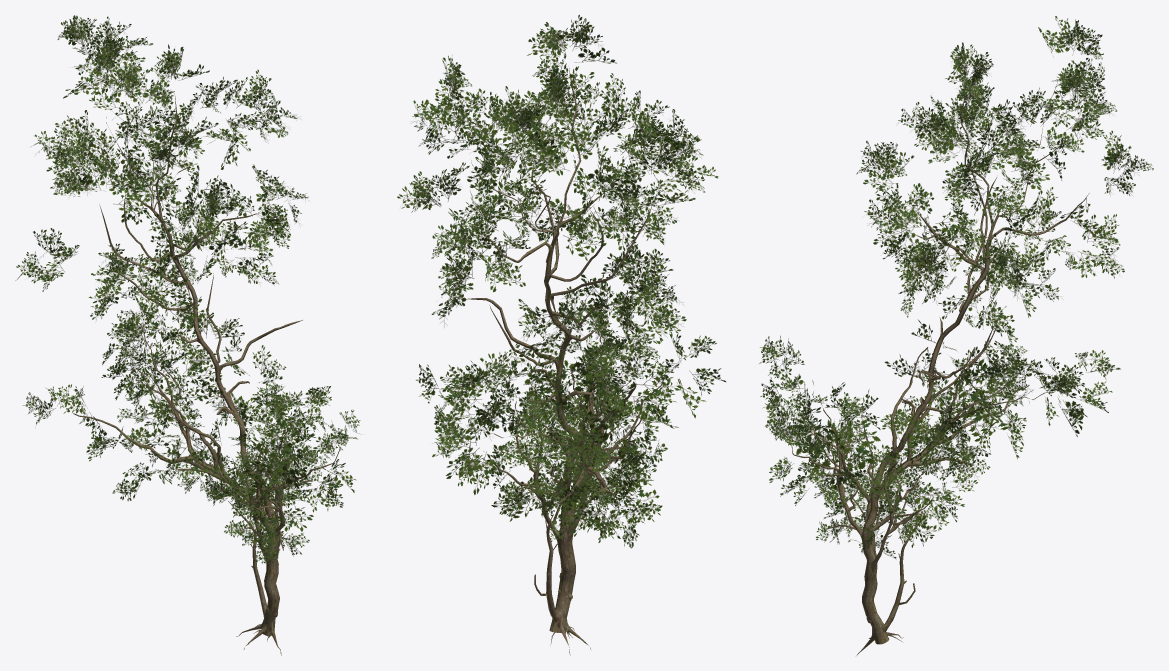
File: tree-english-oak-pack.glb
The picture shows the model from 3 angles, left to right: view 1: azimuth 30°, elevation 25°; view 2: azimuth 150°, elevation 25°; view 3: azimuth 270°, elevation 25°; orthographic projection. The views are drawn at different scales.
Parts seen in each view (by area): view 1: Oak_English_Hero_Forest; view 2: Oak_English_Hero_Forest; view 3: Oak_English_Hero_Forest.
Boxes of the visible parts, x1=… form: Oak_English_Hero_Forest: x1=15, y1=15, x2=361, y2=655; Oak_English_Hero_Forest: x1=397, y1=14, x2=725, y2=655; Oak_English_Hero_Forest: x1=759, y1=16, x2=1153, y2=655.
Size of the model in its own units: 3.36 by 7.57 by 4.61.
Materials: 5 (5 with a texture image).
